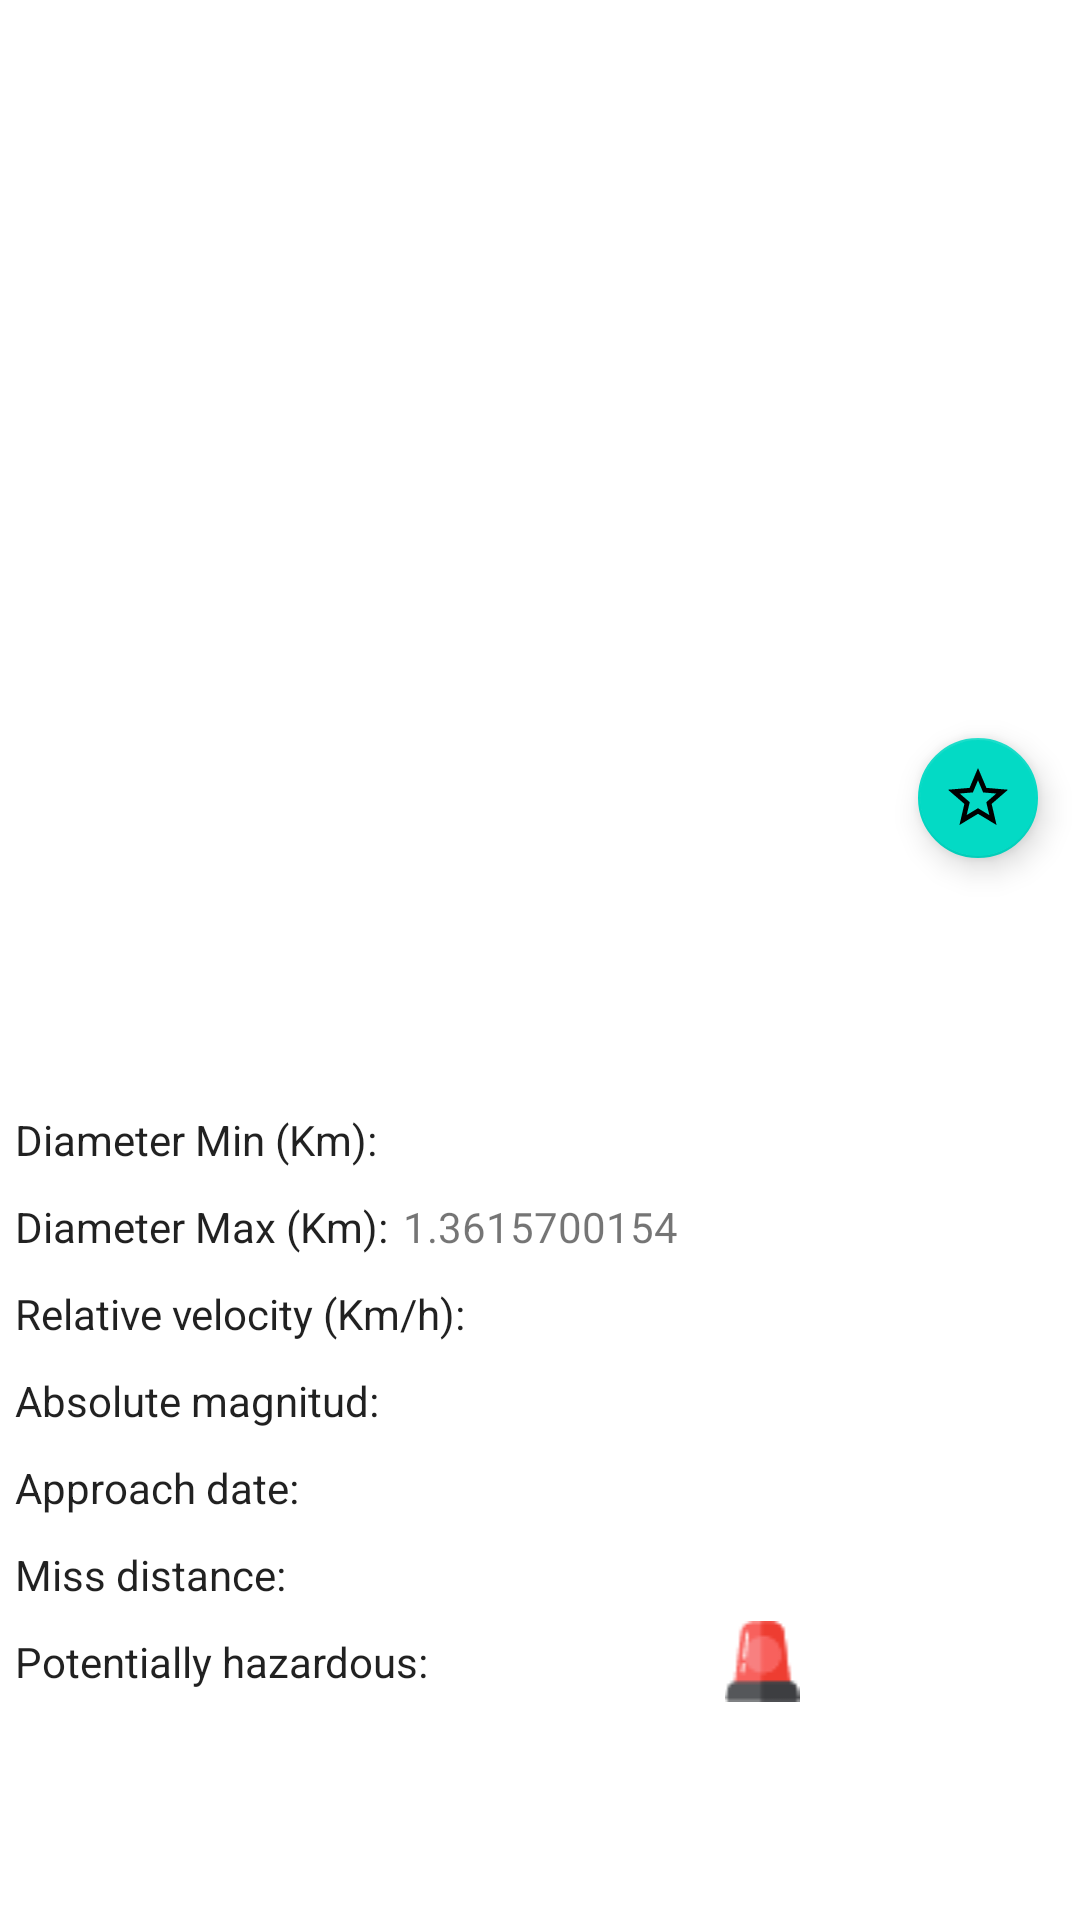

Icon bounding boxes for this 1080×1920 phone screenshot, format (x1, y1, x2, y2):
Buttom for save or remove of favorite photos: (918, 738, 1041, 863)
danger on: (725, 1621, 800, 1702)
